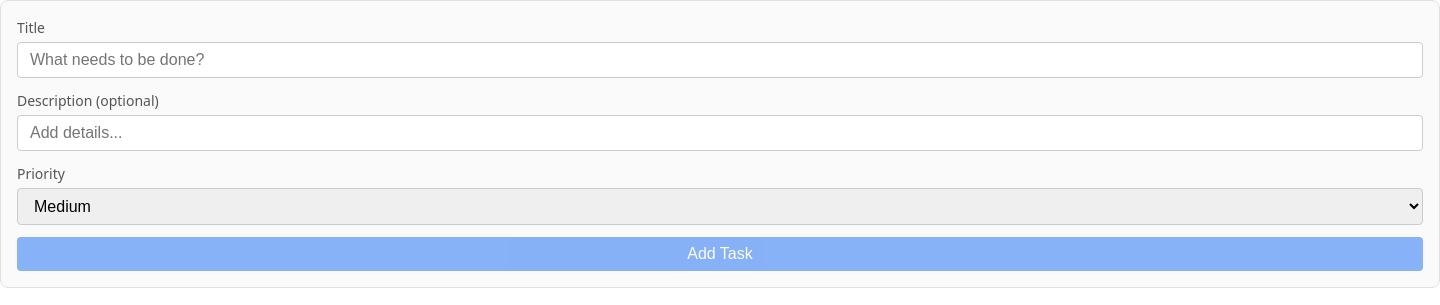
Test: TaskForm › shows Adding... text while submitting
Type "Buy milk" into the field labelled "Title" at (720, 60), box left=17, top=42, right=1423, bottom=78
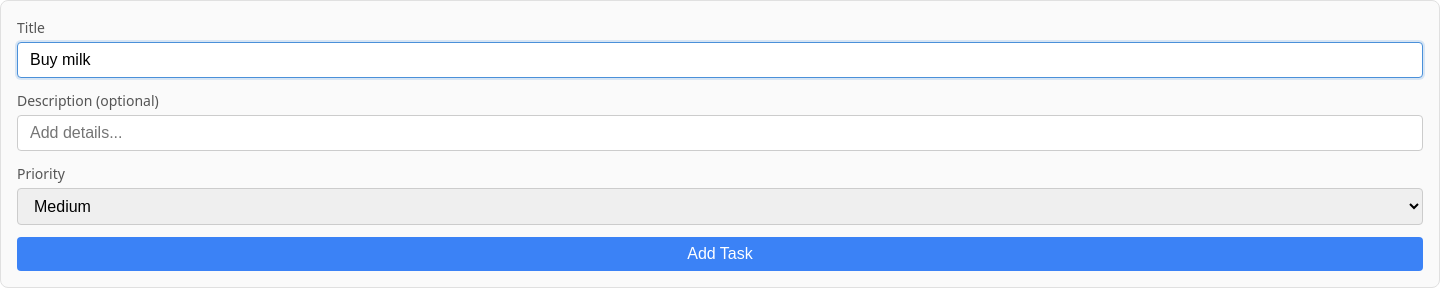
Click the button "Add Task" at (720, 254), box left=17, top=237, right=1423, bottom=271
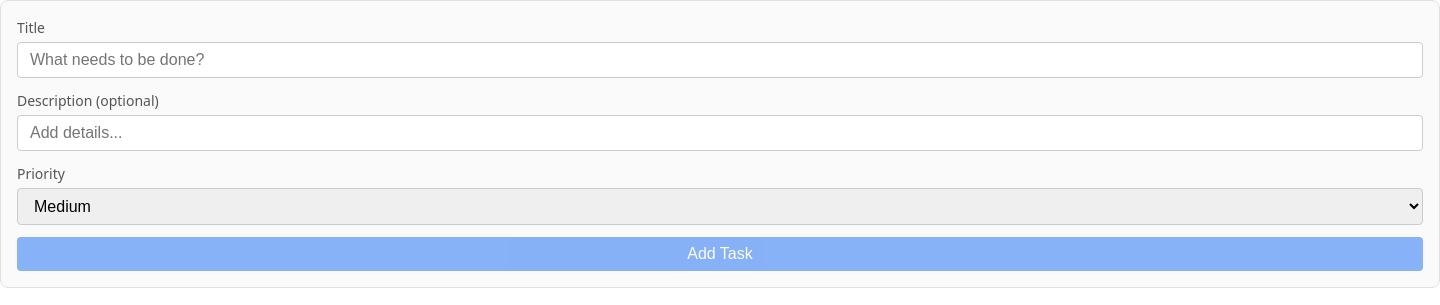
Expected: the button named "Adding..." is disabled, left=17, top=237, right=1423, bottom=271
